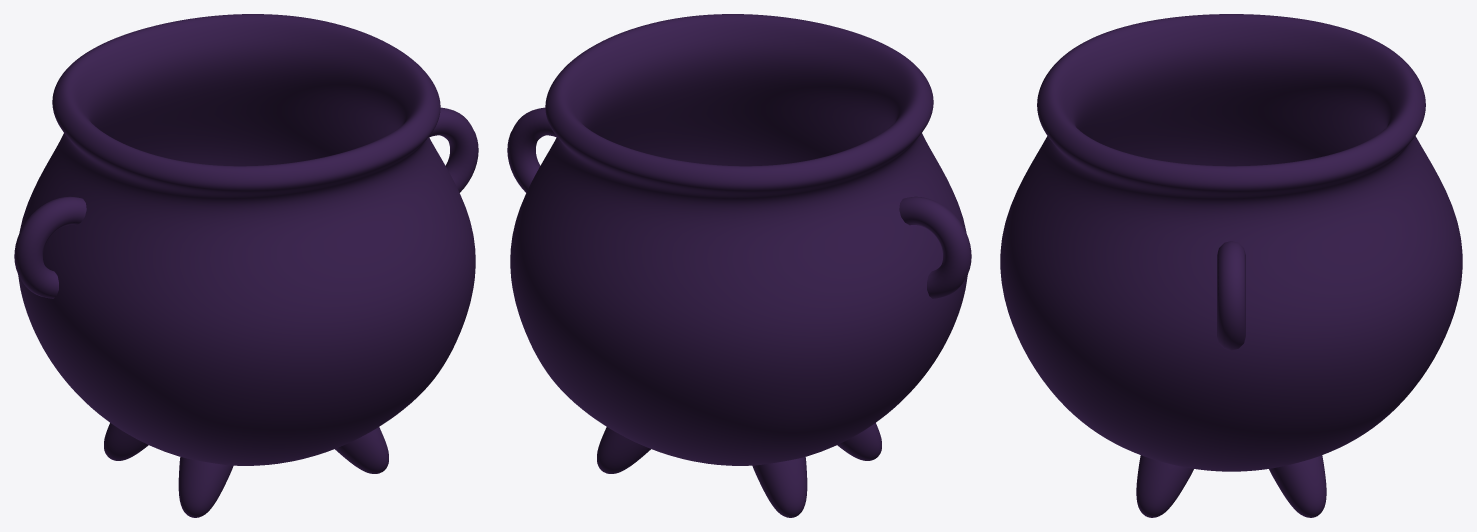
File: calderoVacio.fbx
3 views of the same model, side by side, from view 1: azimuth 30°, elevation 25°; view 2: azimuth 150°, elevation 25°; view 3: azimuth 270°, elevation 25° (orthographic).
Visible parts, largest first — view 1: Cube, Torus, Cube.001; view 2: Cube, Torus, Cube.001; view 3: Cube, Cube.001, Torus.
Boxes of the visible parts, left/top/right/bottom form: Cube: left=18, top=14, right=475, bottom=465; Torus: left=14, top=107, right=478, bottom=298; Cube.001: left=104, top=423, right=388, bottom=517; Cube: left=510, top=14, right=967, bottom=465; Torus: left=507, top=107, right=971, bottom=298; Cube.001: left=597, top=423, right=881, bottom=517; Cube: left=1000, top=14, right=1462, bottom=471; Cube.001: left=1136, top=455, right=1326, bottom=517; Torus: left=1217, top=241, right=1245, bottom=350.
Size of the model in its own units: 186 by 145 by 159.
